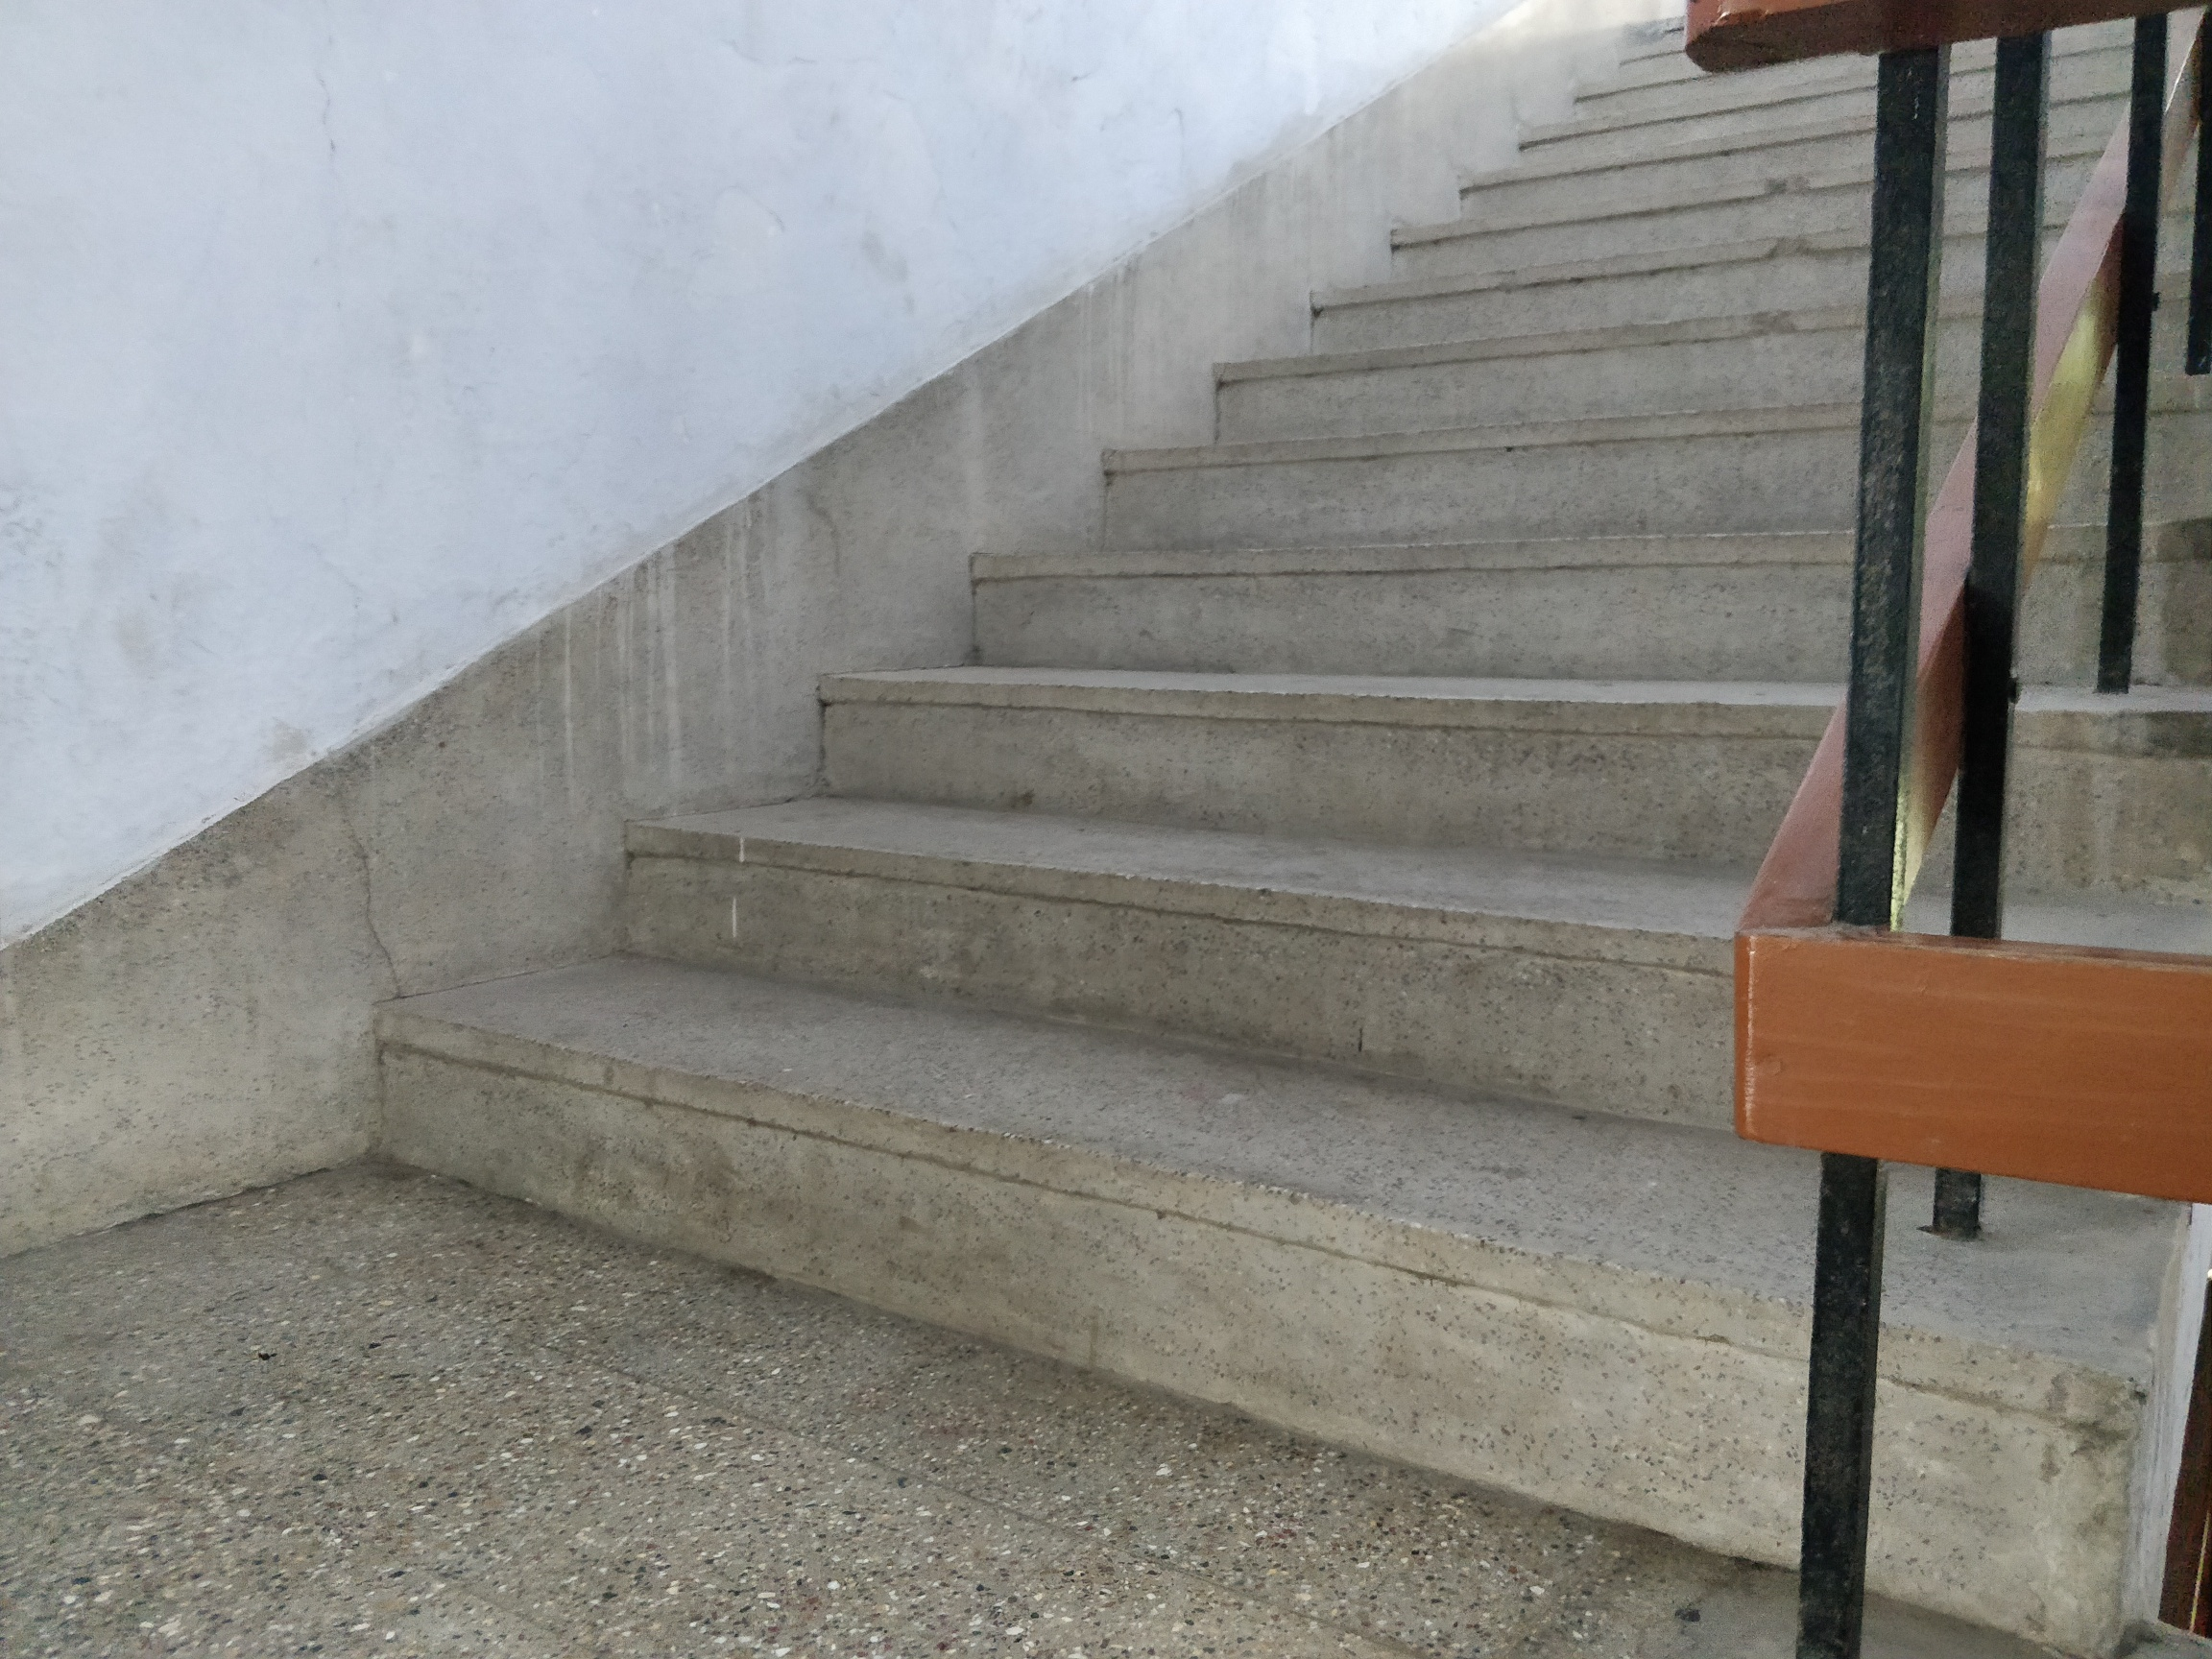stairs_up: (221, 38, 2198, 1553)
